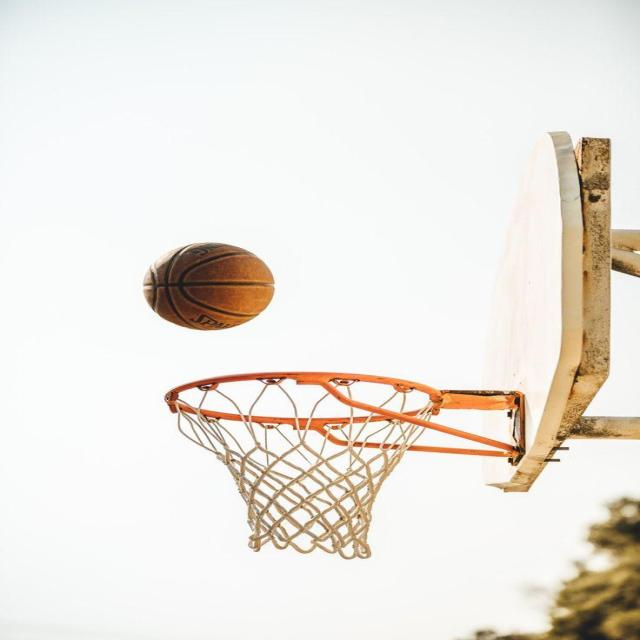hoop: (115, 346, 536, 574)
